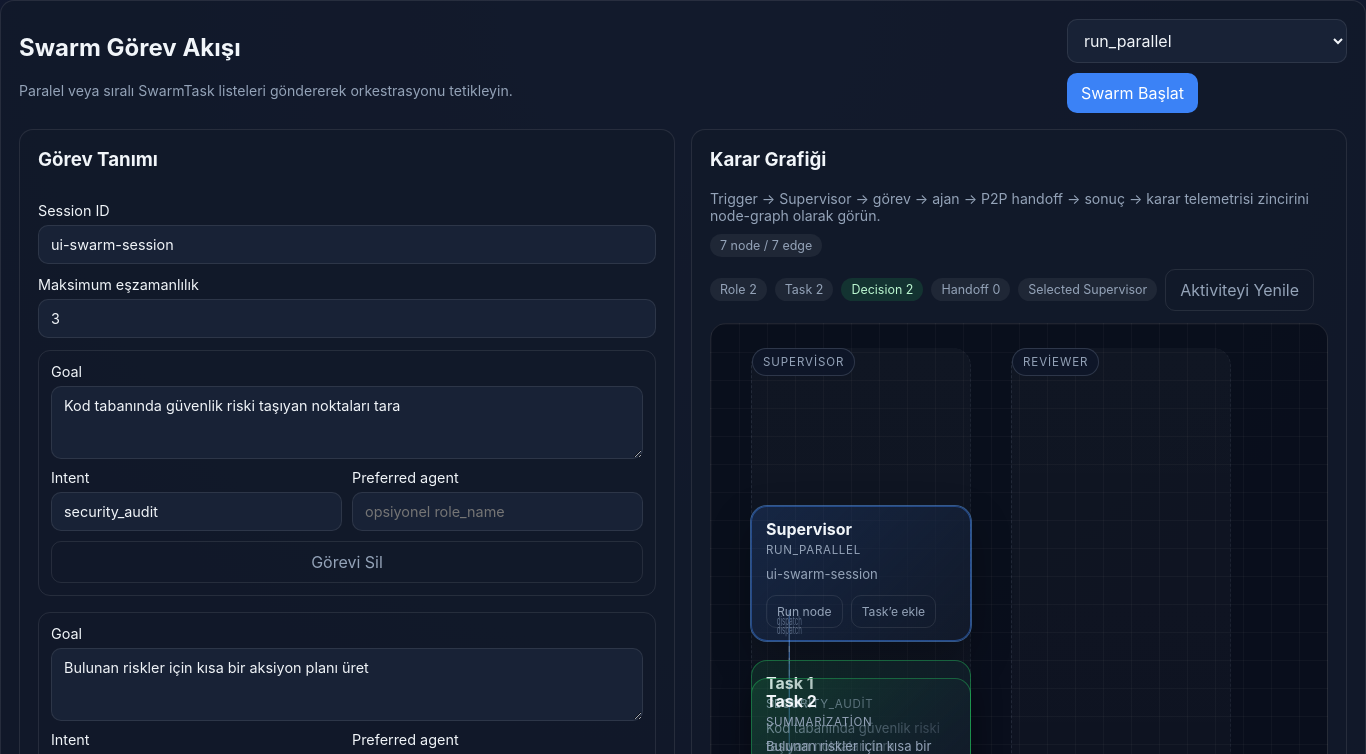
Test: SwarmFlowPanel › renders graph fallback handoff when result has p2p_sender/p2p_receiver without handoff array
Click the button "Run node".
click(804, 612)  # box [766,595,843,628]
(page scrolled)
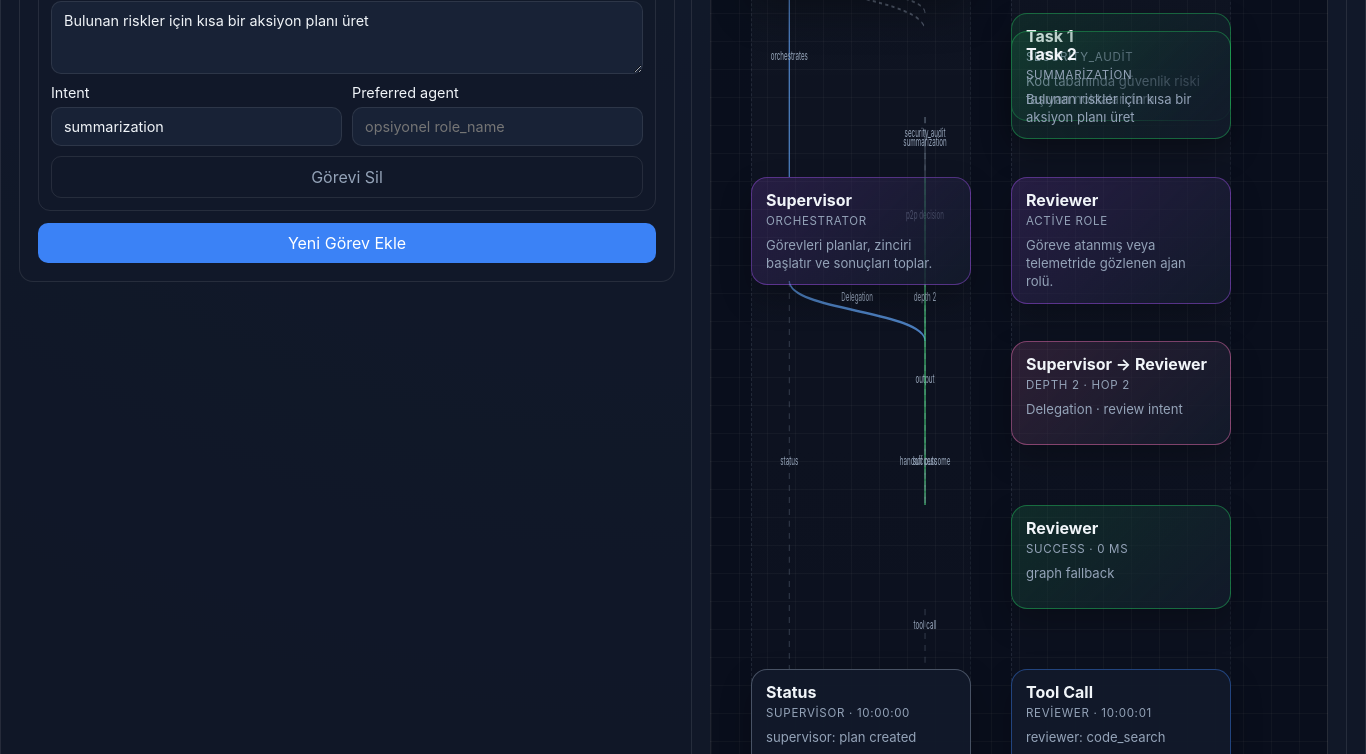
Expected: the text "Supervisor → Reviewer" is shown, [1026,354,1216,374]
Expected: the text "depth 2 · hop 2" is shown, [1026,378,1130,392]
